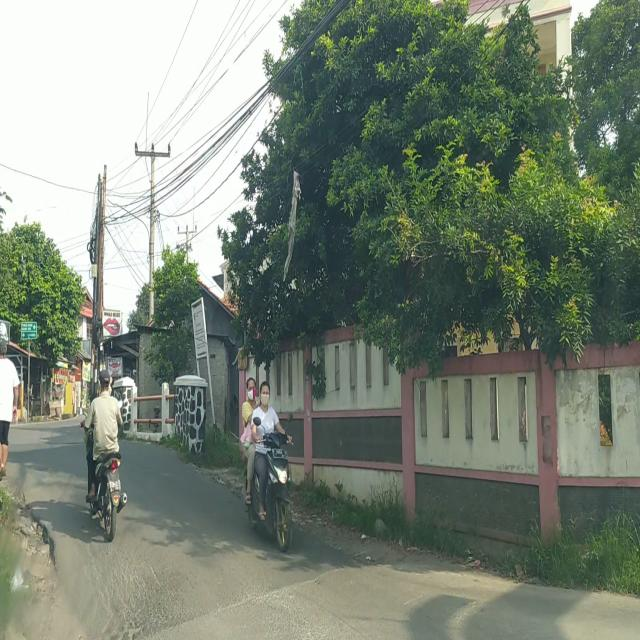Drain Hole: (95, 562, 164, 640)
